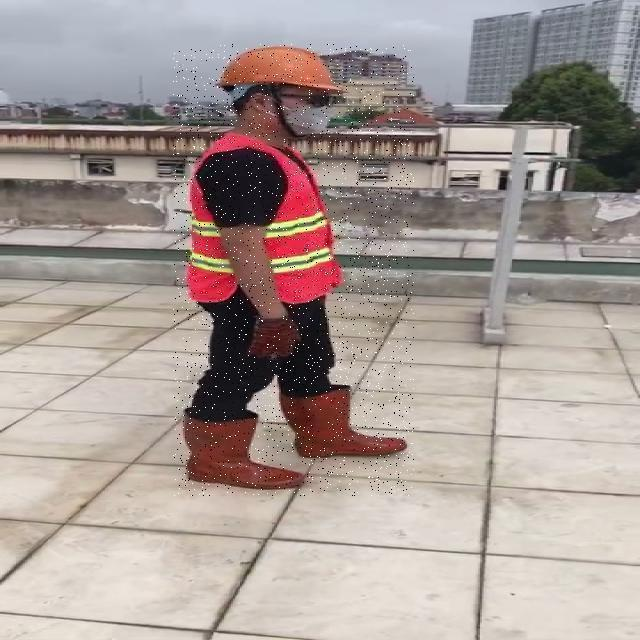gloves: (245, 313, 299, 369)
goggles: (270, 89, 336, 109)
helmet: (209, 46, 345, 92)
safety_vest: (186, 140, 338, 303)
